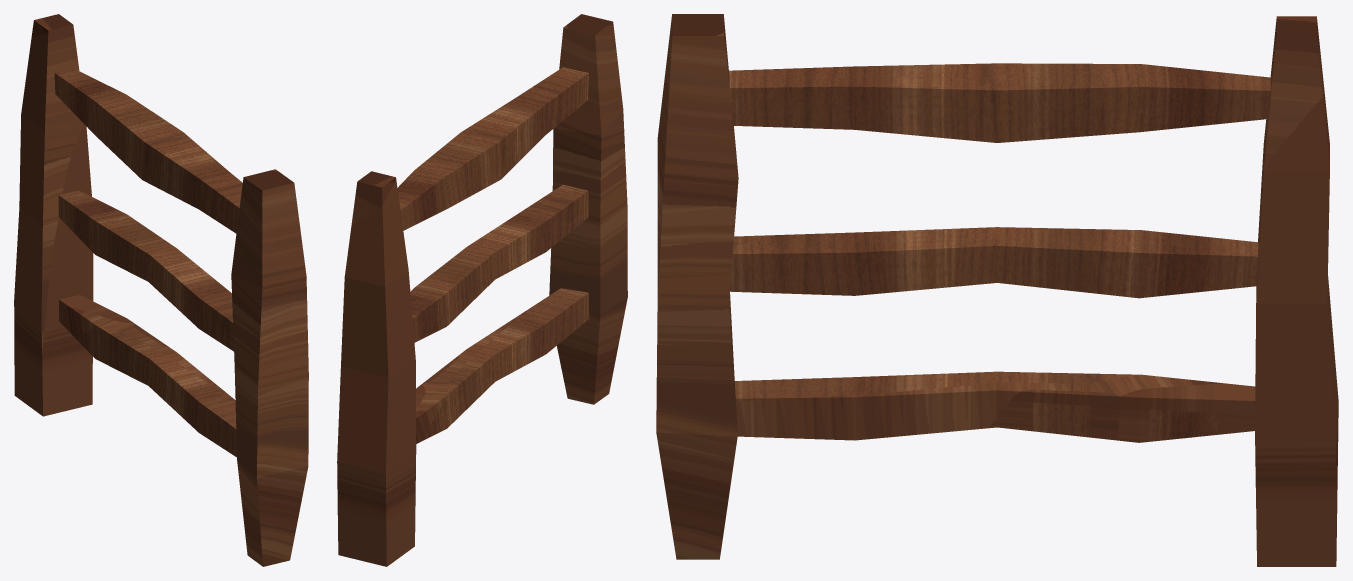
File: fence_1_mk2.fbx
3 views of the same model, side by side, from view 1: azimuth 30°, elevation 25°; view 2: azimuth 150°, elevation 25°; view 3: azimuth 270°, elevation 25° (orthographic). The views are drawn at different scales.
Visible parts, largest first — view 1: Cube; view 2: Cube; view 3: Cube.
Part boxes in pixels (x1=…): Cube: x1=14, y1=14, x2=308, y2=566; Cube: x1=337, y1=14, x2=627, y2=566; Cube: x1=656, y1=14, x2=1338, y2=566.
Bounding box in the file's own units: 11.45 × 79.19 × 93.16.
Materials: 1 (1 with a texture image).
